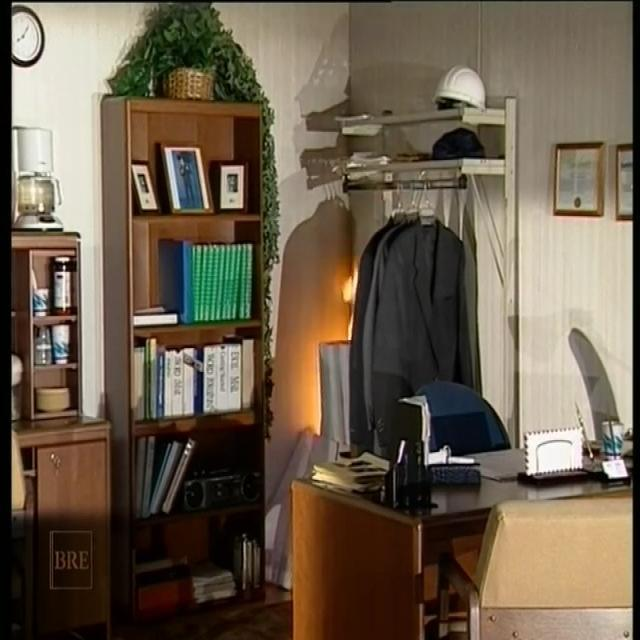Fire: (312, 234, 398, 398)
